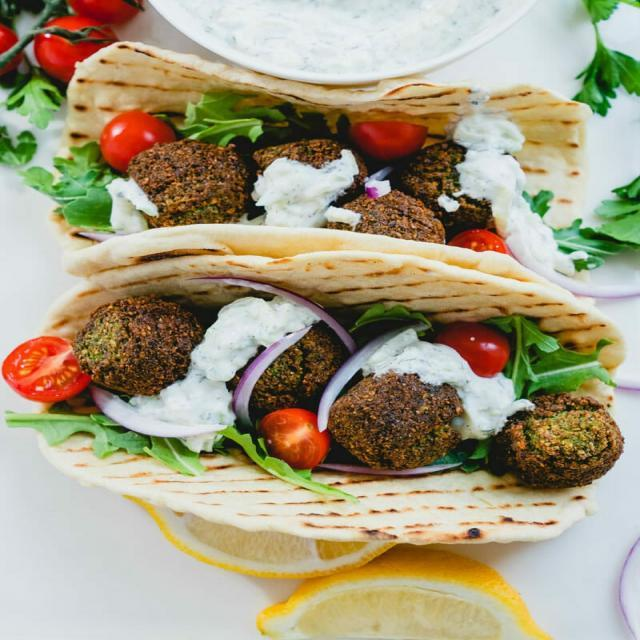flafel: (335, 369, 457, 471), (501, 392, 623, 493), (80, 295, 194, 397), (135, 140, 251, 225)
